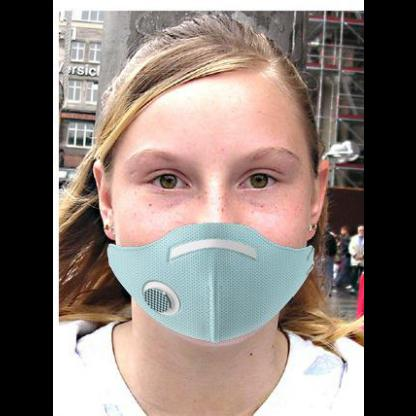FFP Mask: (110, 127, 298, 319)
